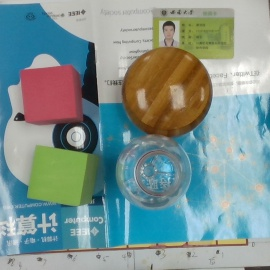bottle: (116, 134, 191, 208)
card: (152, 6, 234, 59)
chess: (122, 47, 212, 136)
